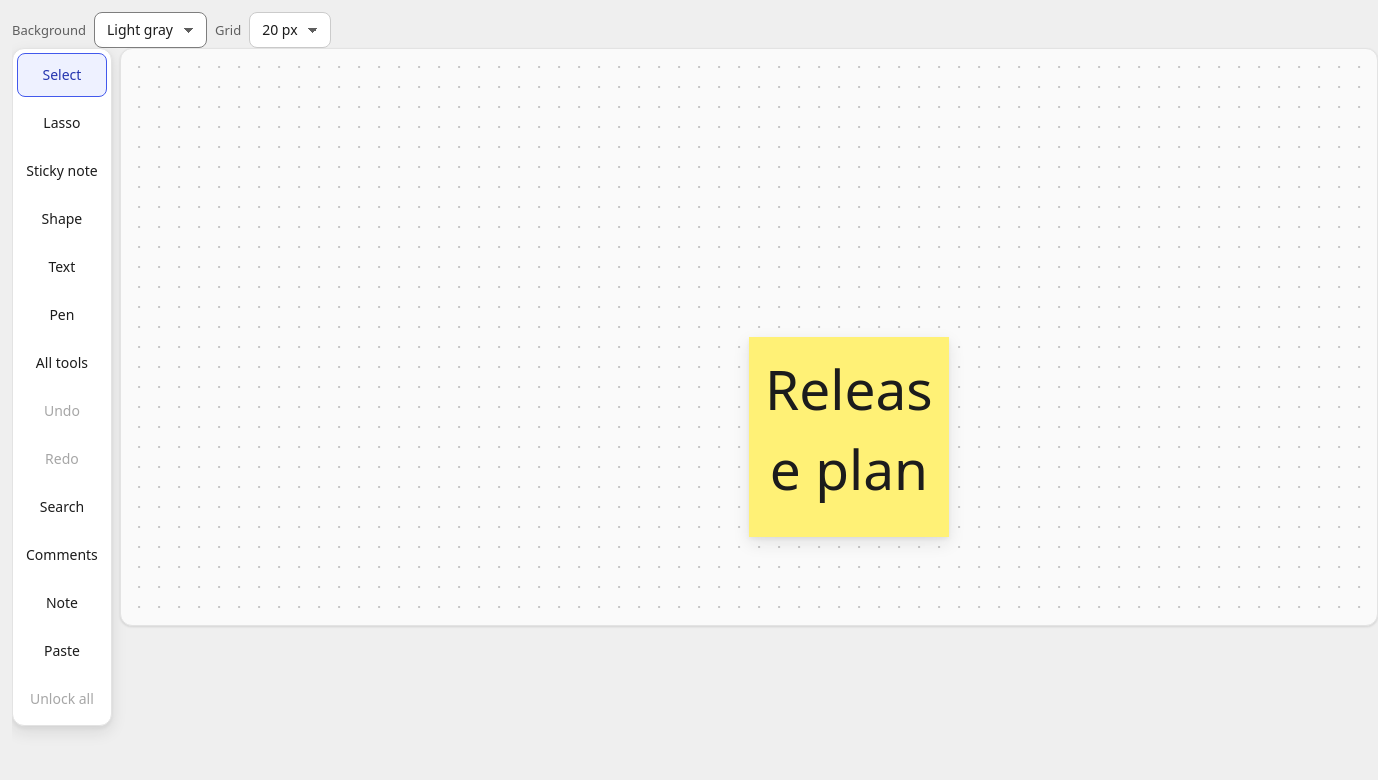
CVS-08: поиск по доске › находит объект по тегу и переходит к нему по Enter
The width and height of the screenshot is (1378, 780).
Click the button "Search".
click(62, 507)  # box [17,485,107,529]
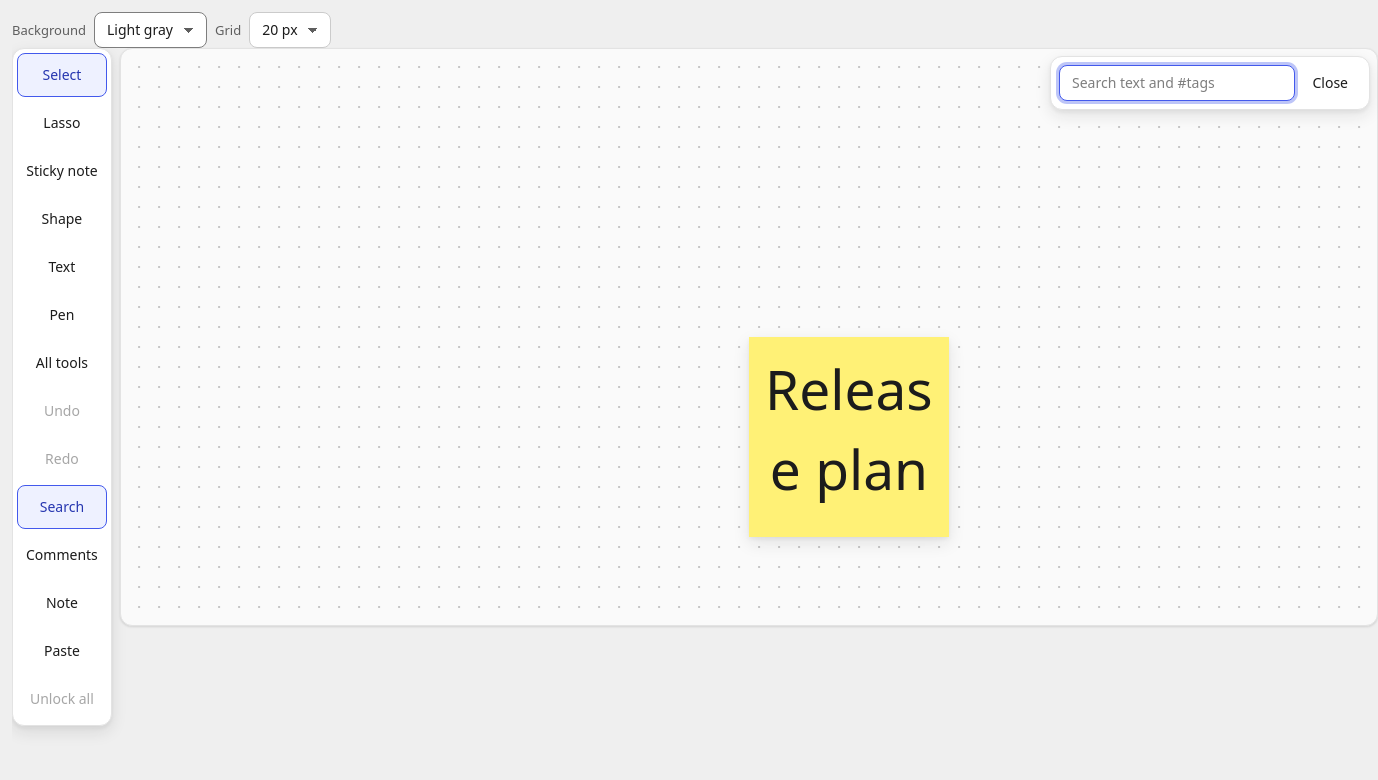
Type "#urgent" into the search field named "Search text and tags".
click(1177, 83); type("#urgent")  # box [1059,65,1296,101]
Then press Enter
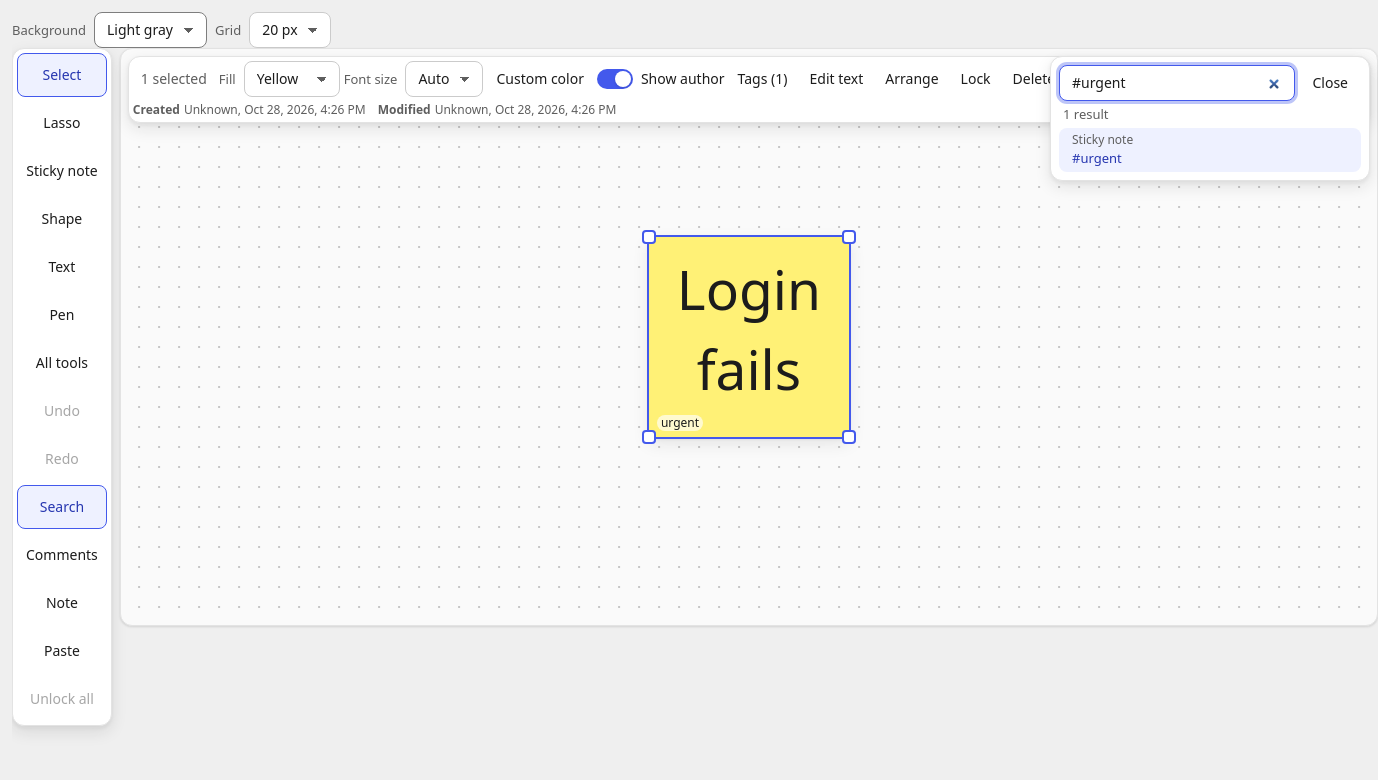
Now the button "Sticky note #urgent" is shown, box [1059,128,1361,172]
